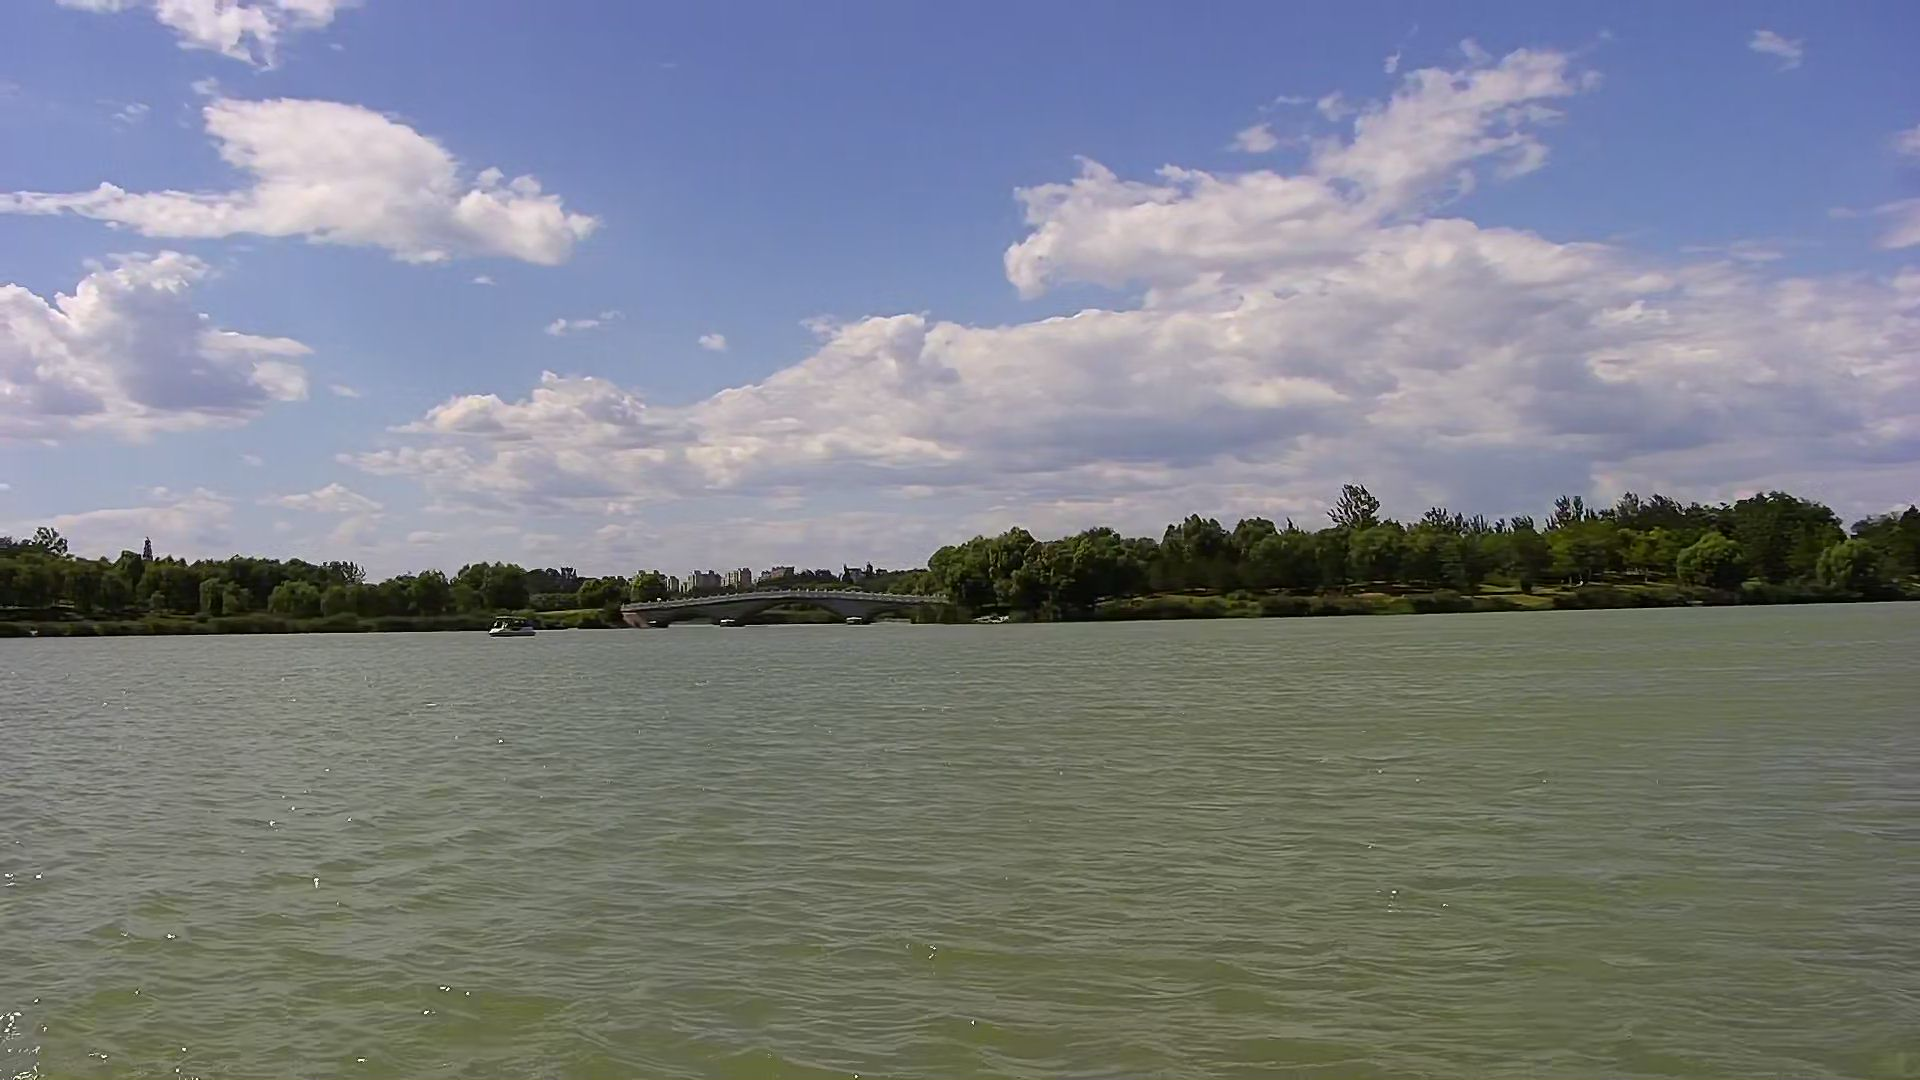boat: (491, 615, 541, 637)
bridge: (640, 591, 952, 626)
